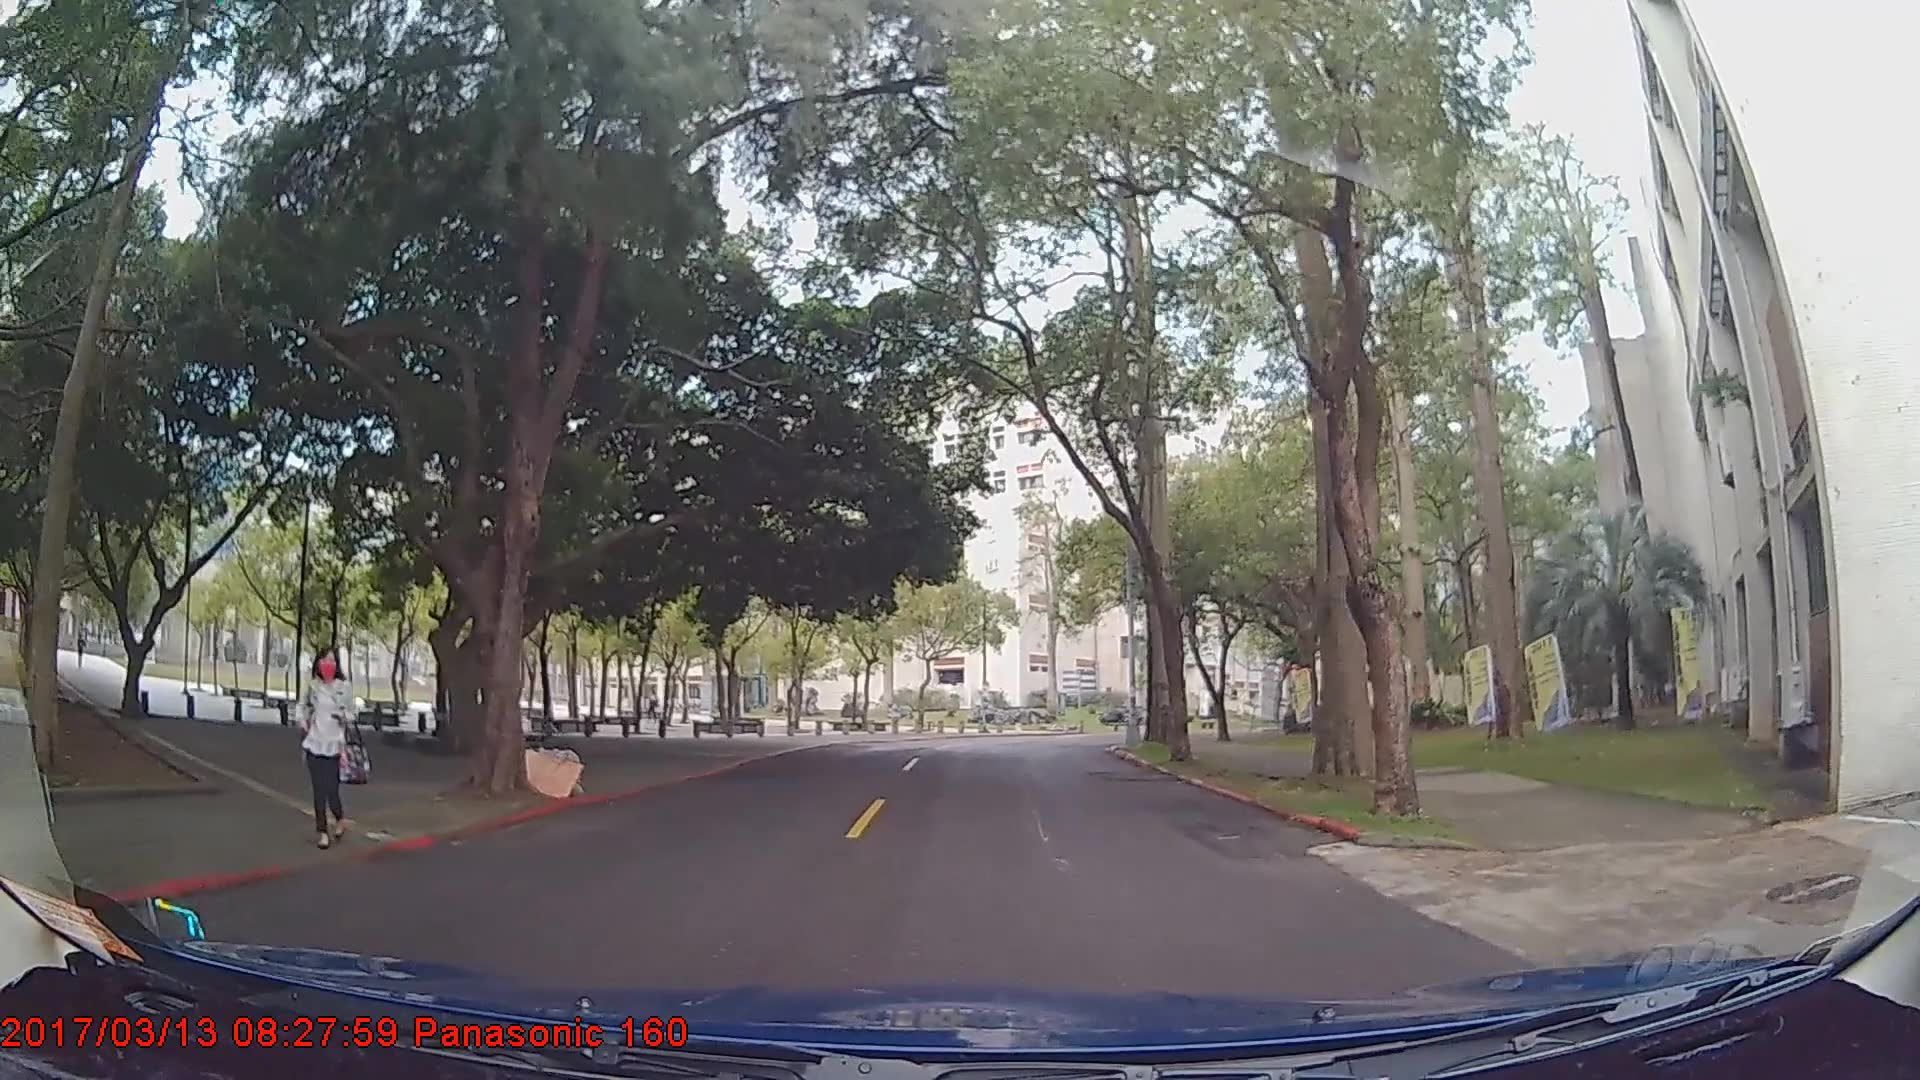pedestrian: (292, 639, 370, 848)
